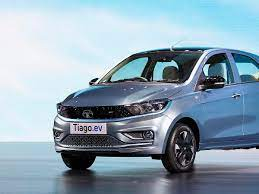Tiago: (50, 43, 259, 181)
